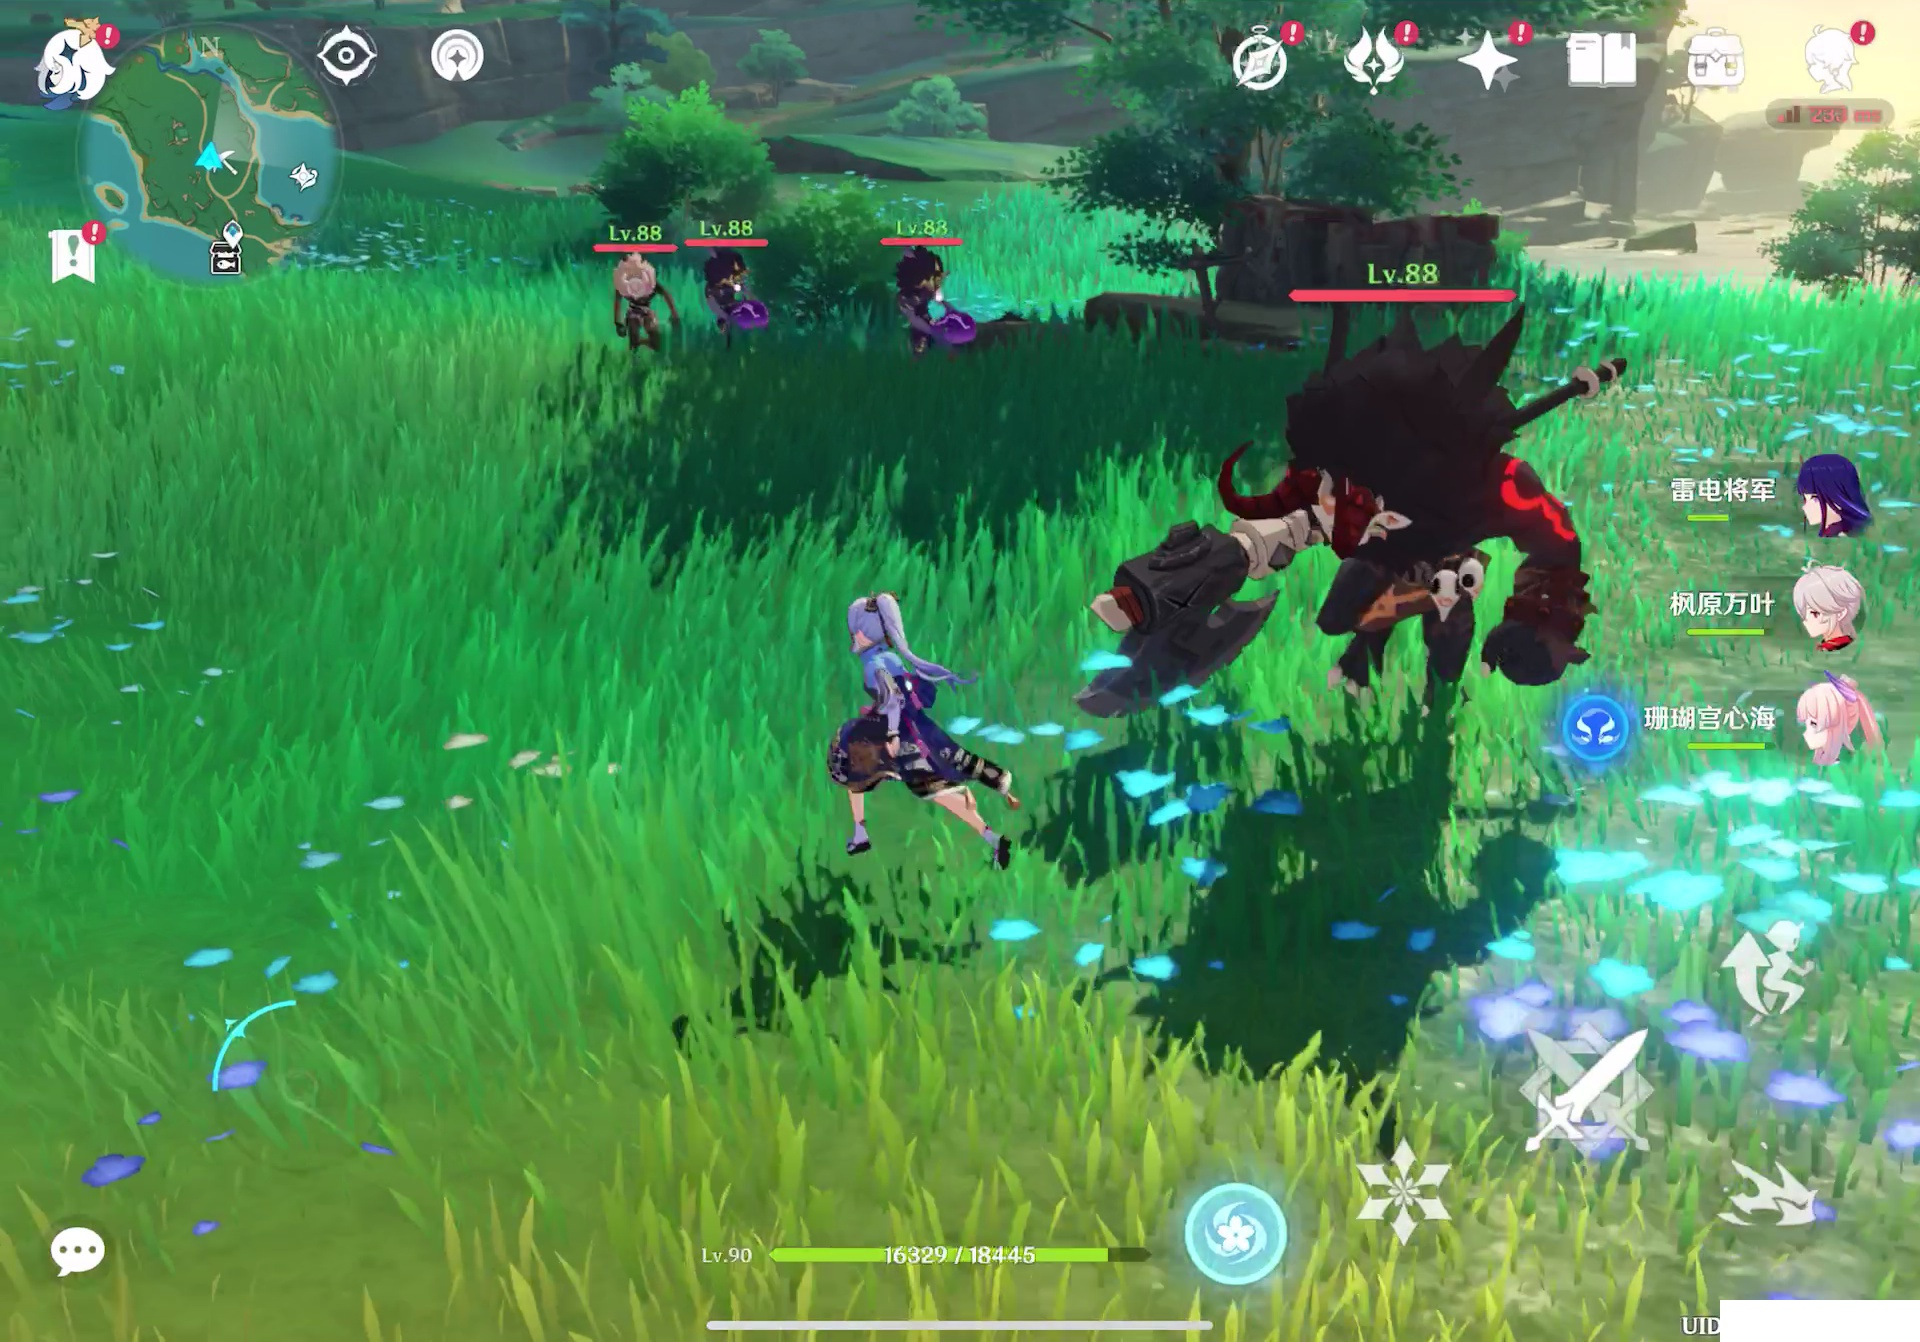NTR: (1088, 331, 1599, 694)
丘丘人: (884, 252, 964, 353), (600, 258, 678, 352), (697, 255, 775, 338)
神里绫龟: (770, 576, 1018, 856)
